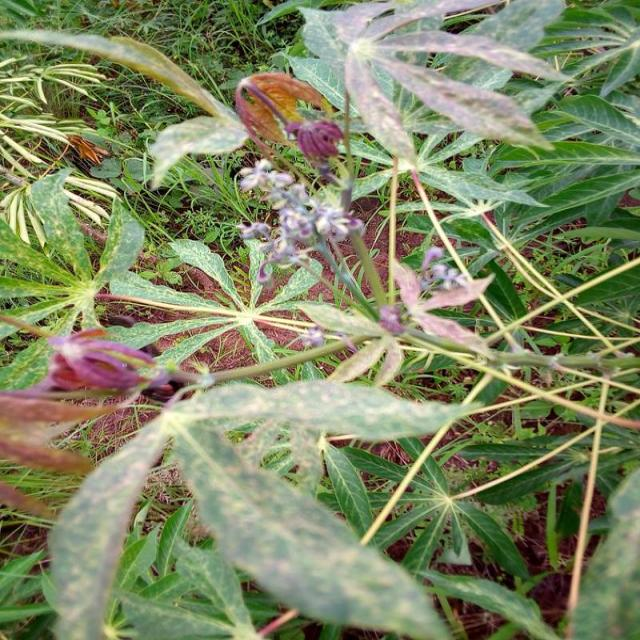cassava leaf: (2, 1, 638, 638), (170, 387, 454, 638), (290, 0, 568, 170)
